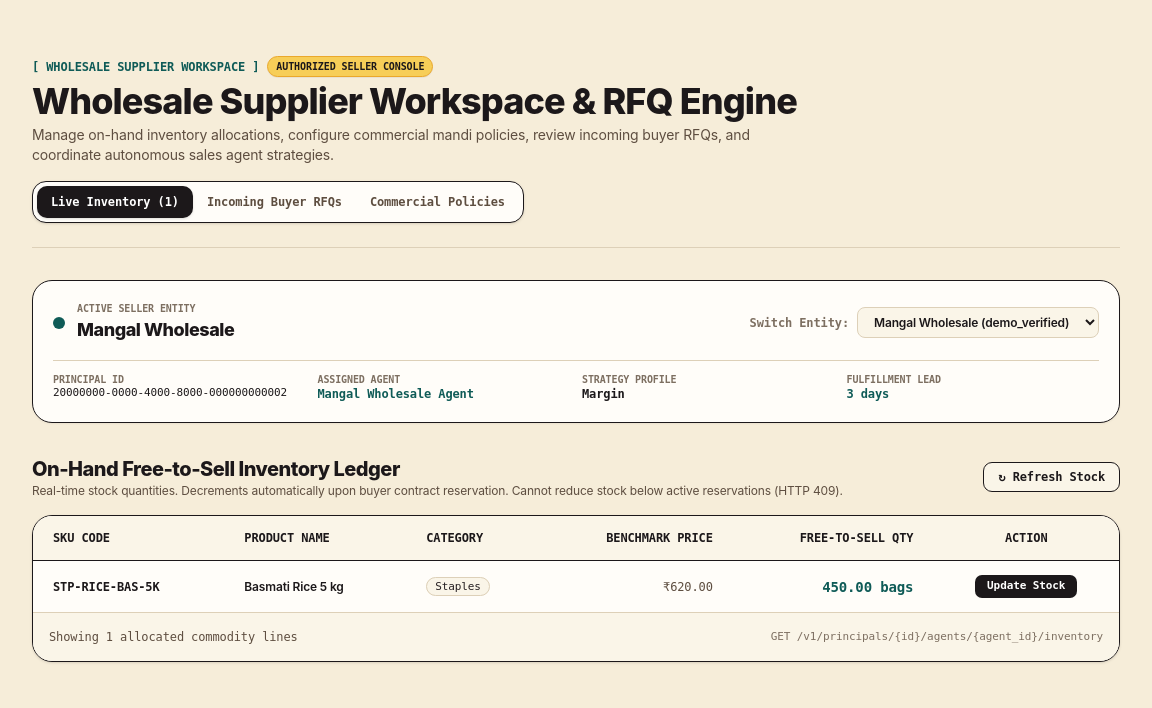
Test: Seller Workspace Page › strictly masks buyer maximum budget in the incoming RFQs view
Click the tab "Incoming Buyer RFQs".
click(274, 202)  # box [193, 186, 356, 218]
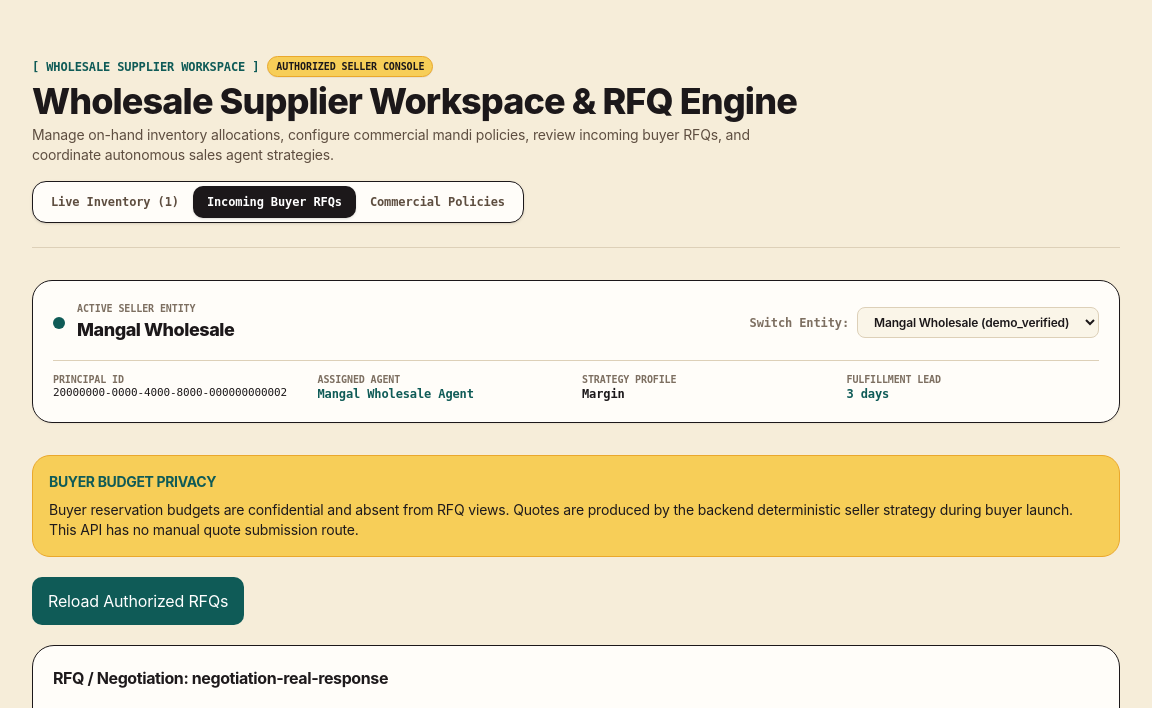
Now the heading "BUYER BUDGET PRIVACY" is shown, box [49, 473, 216, 490]
Now the heading "RFQ / Negotiation: negotiation-real-response" is shown, box [53, 668, 388, 688]
